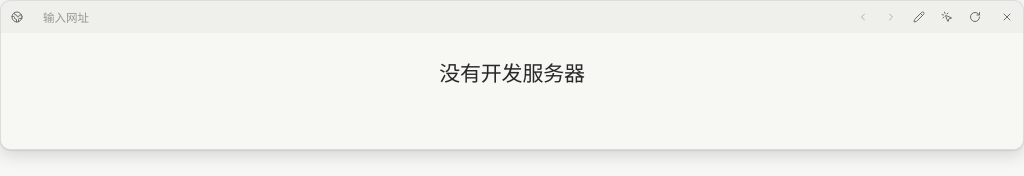
Test case: BrowserPanel › drops the controls Claude Code's preview pane does not have
Click the button named "服务器与设置". click: (17, 17)
box: 5,5 -> 29,29
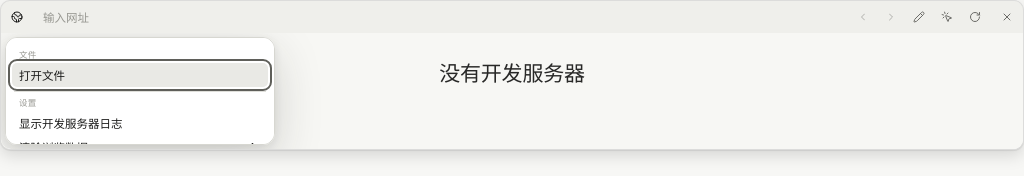
Now the menu named "浏览器菜单" is shown, box 5,37 -> 275,145
